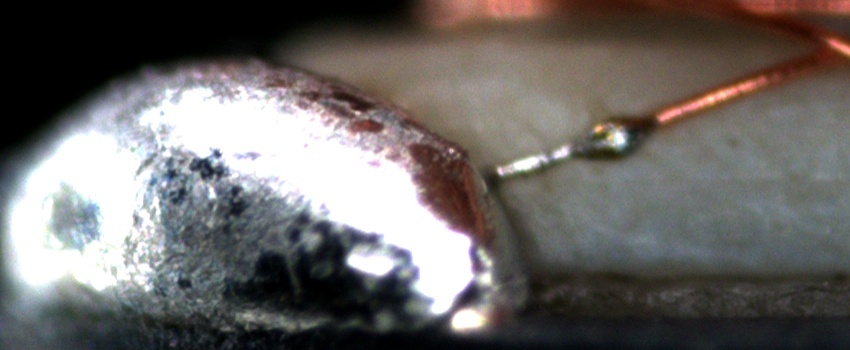DL: (616, 147, 845, 211)
TB: (575, 111, 655, 164)
TS: (484, 113, 656, 183)
TTCW: (480, 95, 702, 184)
